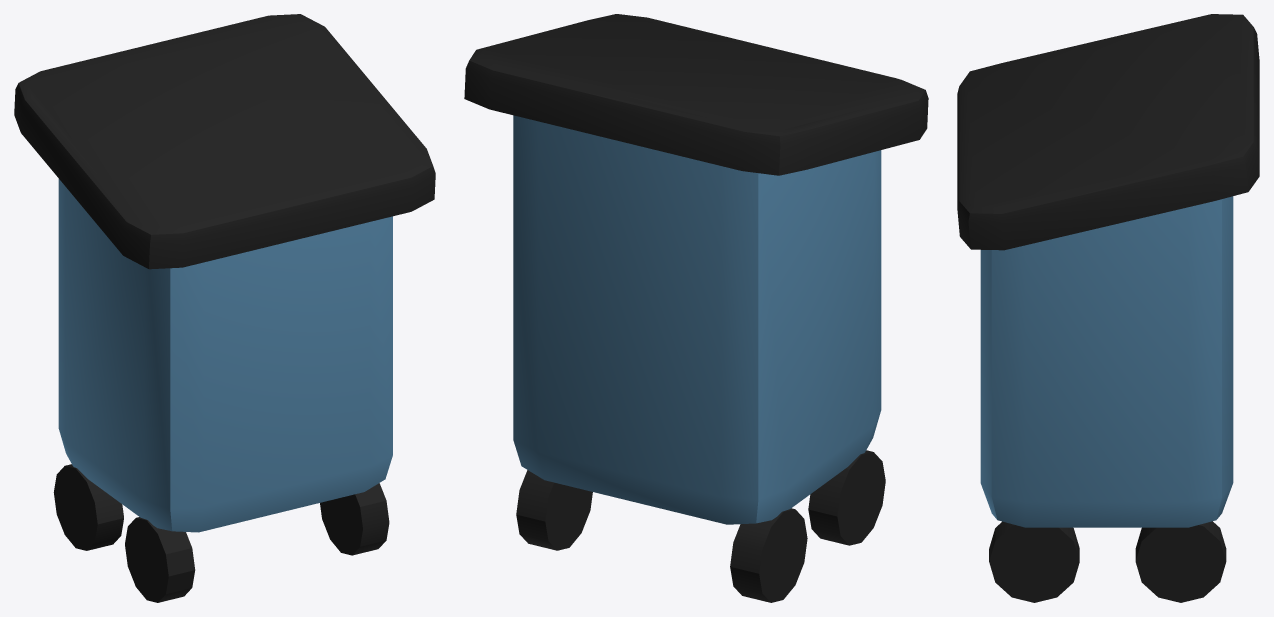
File: SM_trashbox_small.fbx
3 views of the same model, side by side, from view 1: azimuth 30°, elevation 25°; view 2: azimuth 150°, elevation 25°; view 3: azimuth 270°, elevation 25° (orthographic). The views are drawn at different scales.
Visible parts, largest first — view 1: Object32434; view 2: Object32434; view 3: Object32434.
Part boxes in pixels (left/top/right/bottom): Object32434: left=14, top=14, right=435, bottom=602; Object32434: left=464, top=14, right=928, bottom=602; Object32434: left=957, top=14, right=1259, bottom=602.
Bounding box in the file's own units: 39.69 × 56.24 × 33.08.
